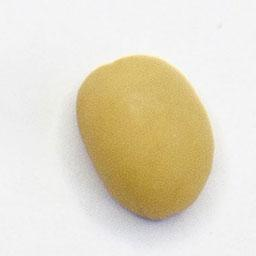defect: (69, 47, 222, 227)
